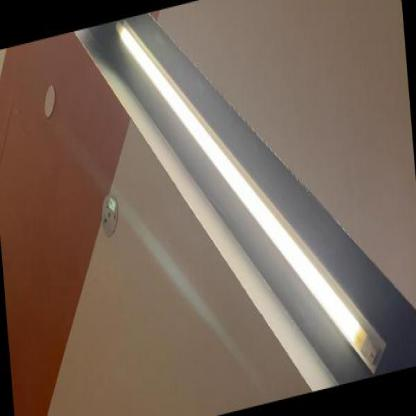light_on: (105, 0, 393, 415)
